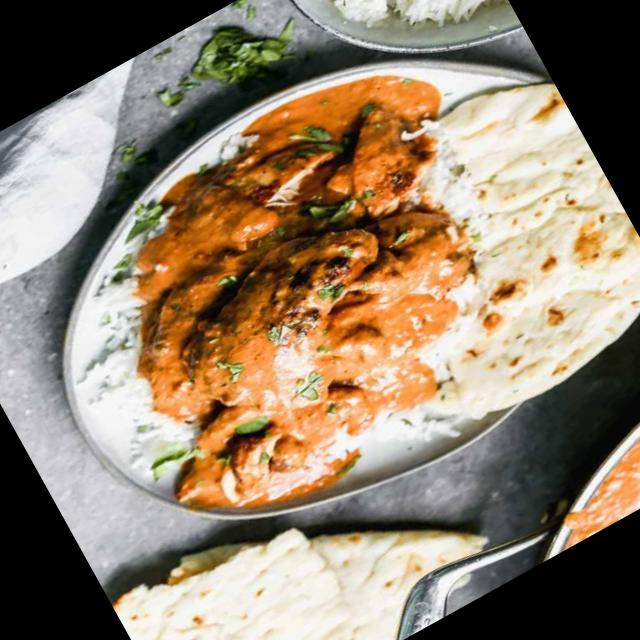chicken: (83, 66, 522, 510)
rice: (42, 303, 194, 476), (313, 0, 514, 83)
roti: (358, 71, 640, 420), (124, 457, 457, 640)
